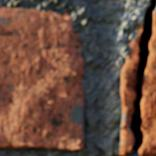brick: (0, 7, 84, 150)
broken_brick: (119, 25, 142, 154), (139, 11, 155, 155)
crack: (128, 0, 155, 154)
